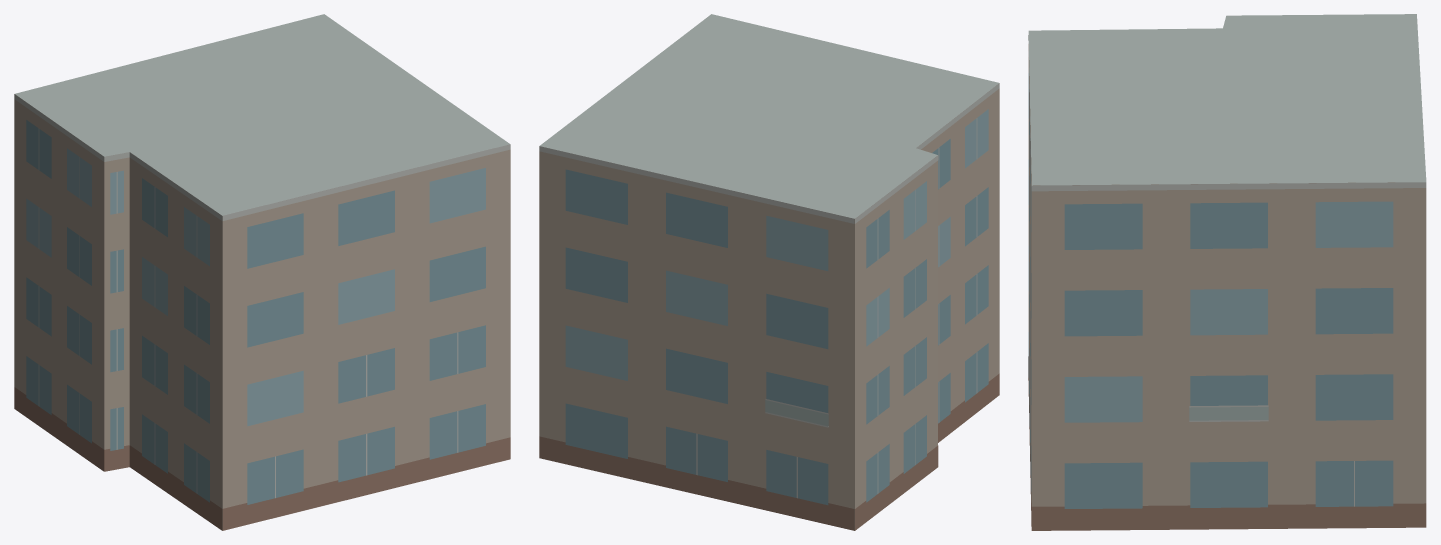
Rendered from survey-upis-32463775.glb.
3 renders of one model, left to right at view 1: azimuth 30°, elevation 25°; view 2: azimuth 150°, elevation 25°; view 3: azimuth 270°, elevation 25°, orthographic. The views are drawn at different scales.
Visible parts, largest first — view 1: survey-upis-32463775.tmp; view 2: survey-upis-32463775.tmp; view 3: survey-upis-32463775.tmp.
Boxes of the visible parts, left/top/right/bottom form: survey-upis-32463775.tmp: left=14, top=14, right=510, bottom=530; survey-upis-32463775.tmp: left=539, top=14, right=999, bottom=530; survey-upis-32463775.tmp: left=1028, top=14, right=1426, bottom=530.
Size of the model in its own units: 15.4 by 14.46 by 15.11.
